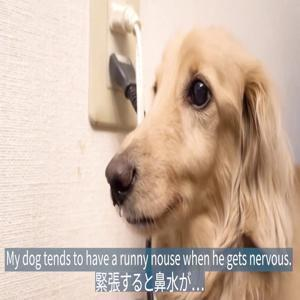nasal_discharge: (109, 182, 128, 216)
